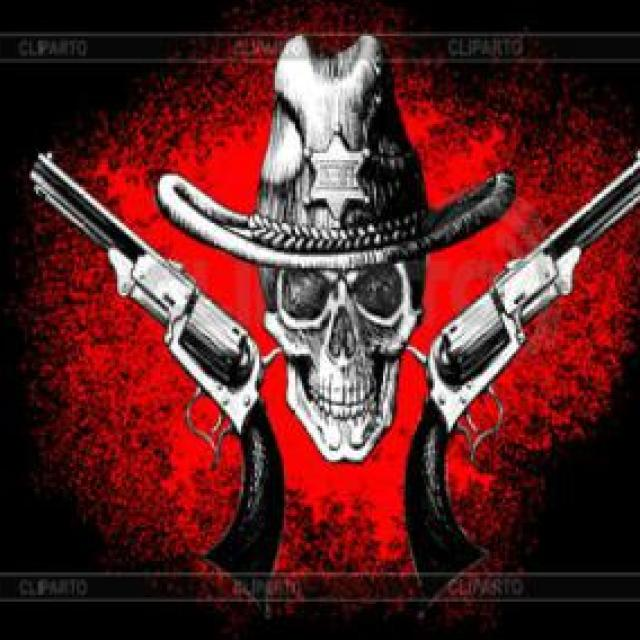pistol: (31, 149, 284, 599), (405, 149, 640, 622)
